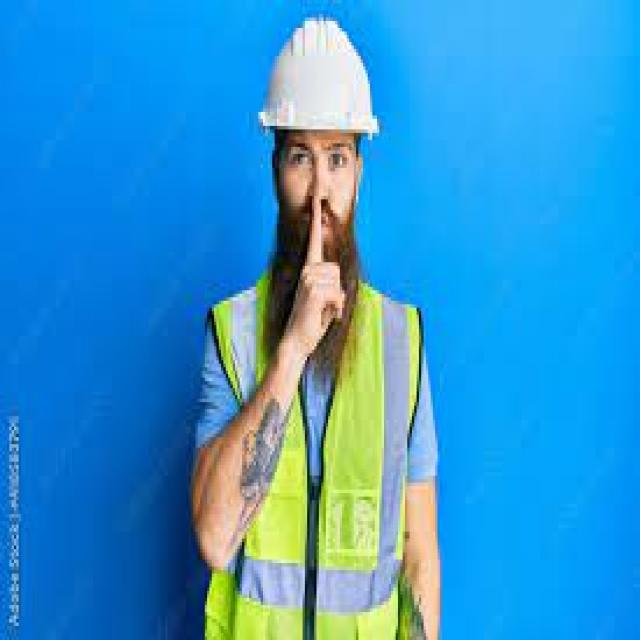Reflective-Jacket: (198, 266, 437, 636)
Safety-Helmet: (256, 14, 379, 150)
